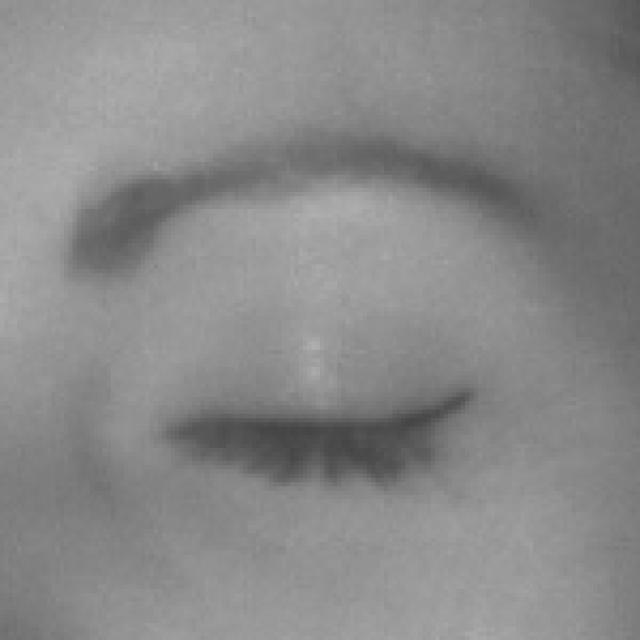Eyeclosed: (172, 242, 491, 604)
